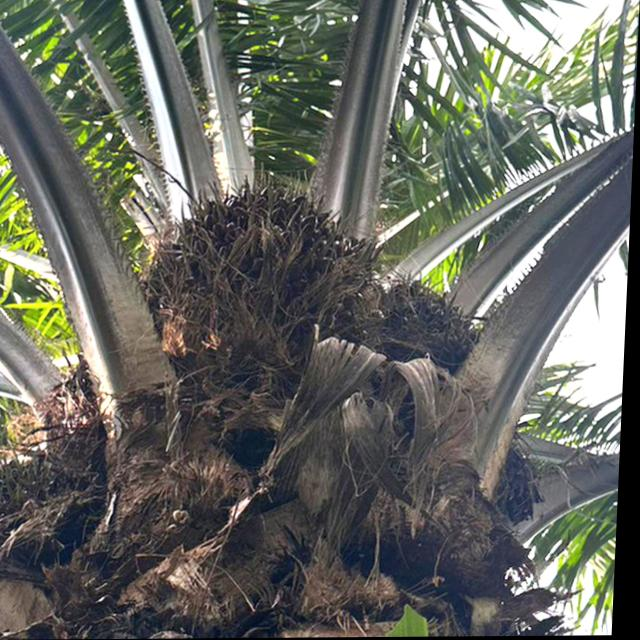unripe: (128, 170, 390, 443)
